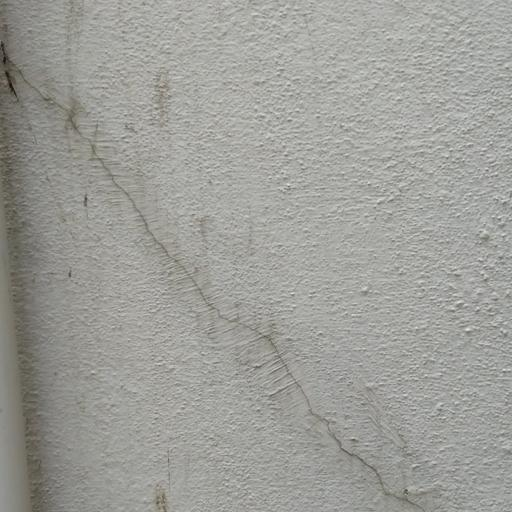minor_crack: (1, 46, 437, 512)
